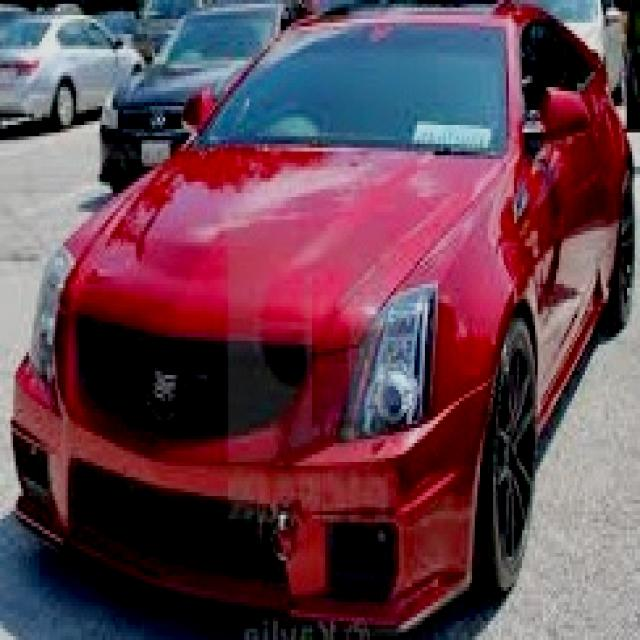red: (0, 0, 633, 640)
